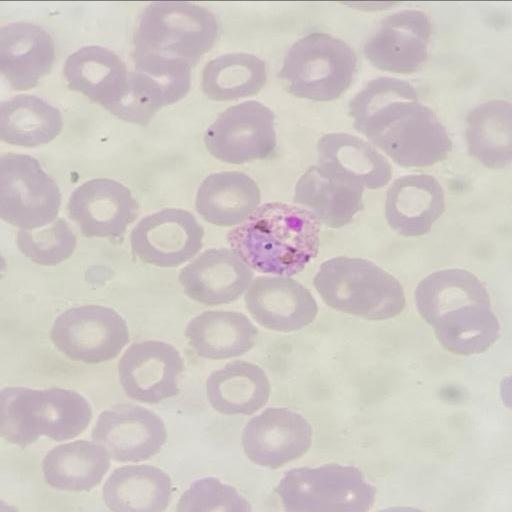Infected: (228, 199, 323, 276)
Uninfected: (415, 266, 497, 353), (314, 255, 406, 322), (362, 101, 449, 168), (0, 384, 89, 447), (135, 1, 219, 66), (280, 33, 356, 102), (0, 152, 63, 230), (49, 303, 128, 364), (316, 130, 396, 189), (278, 463, 374, 512), (63, 44, 133, 111), (365, 8, 432, 74), (116, 339, 184, 404), (205, 100, 275, 163), (67, 177, 138, 239), (130, 207, 203, 267), (297, 163, 368, 224), (179, 246, 252, 305), (93, 405, 167, 463), (240, 406, 310, 466), (243, 274, 316, 331), (382, 172, 446, 236), (203, 359, 271, 416), (113, 68, 182, 124), (0, 20, 55, 89), (184, 308, 256, 360), (195, 170, 262, 225), (42, 439, 108, 491), (0, 93, 62, 148), (200, 54, 270, 102), (101, 463, 171, 511), (351, 76, 422, 123), (464, 99, 512, 165), (16, 218, 77, 267)
